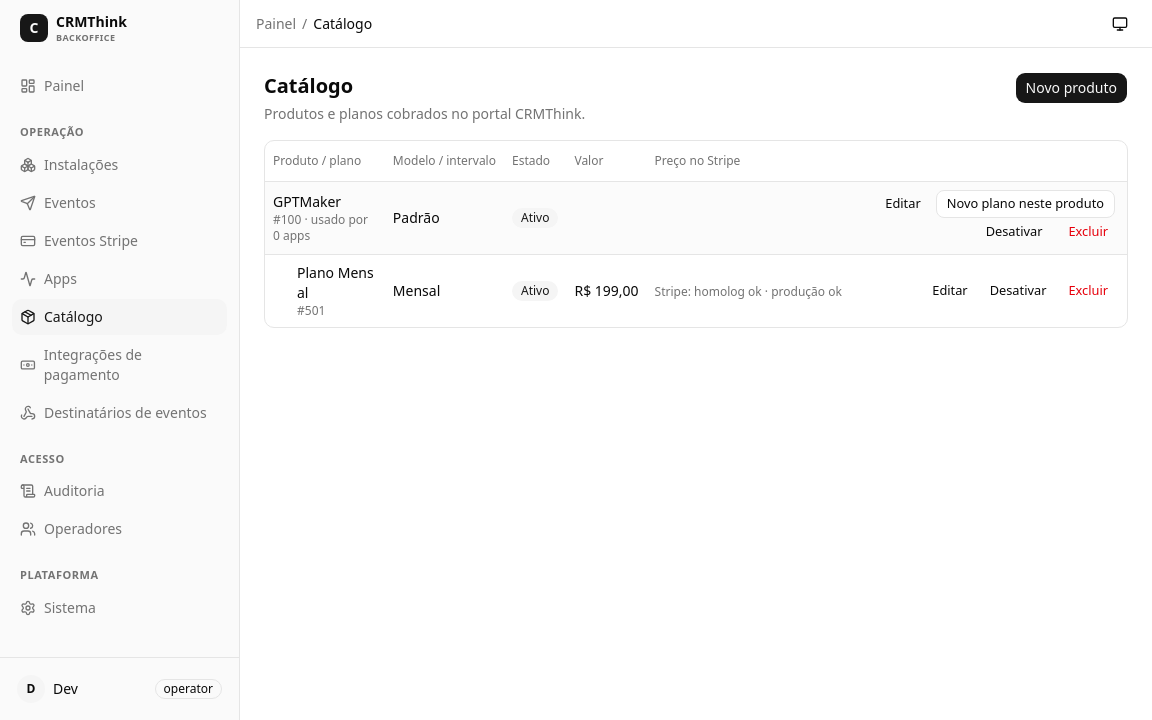
Scenario: excluir e desativar › sem uso exige o nome e o motivo e envia DELETE com o cabeçalho
Click the button with aria-label "Excluir plano Plano Mensal".
click(1088, 290)  # box [1057,276,1119,304]
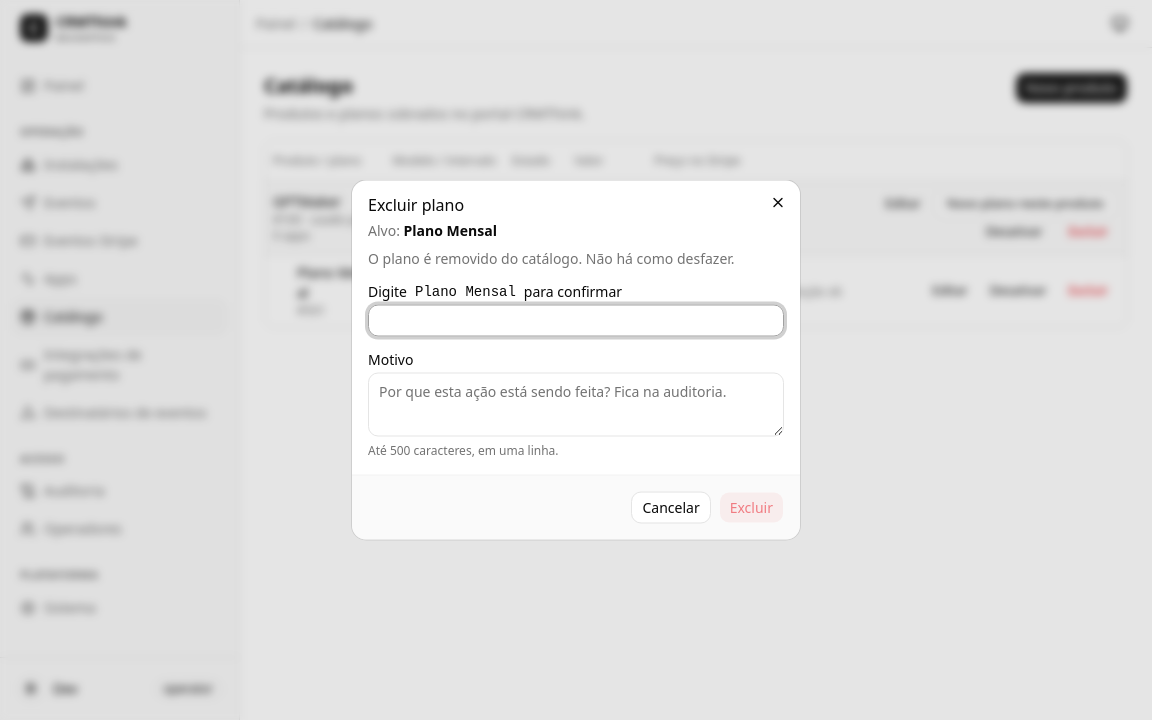
expect the button "Excluir" is disabled: met, box [719,492,784,524]
Type "Plano Mensal" into the field labelled "Digite Plano Mensal para confirmar".
click(576, 320); type("Plano Mensal")  # box [368,304,784,336]
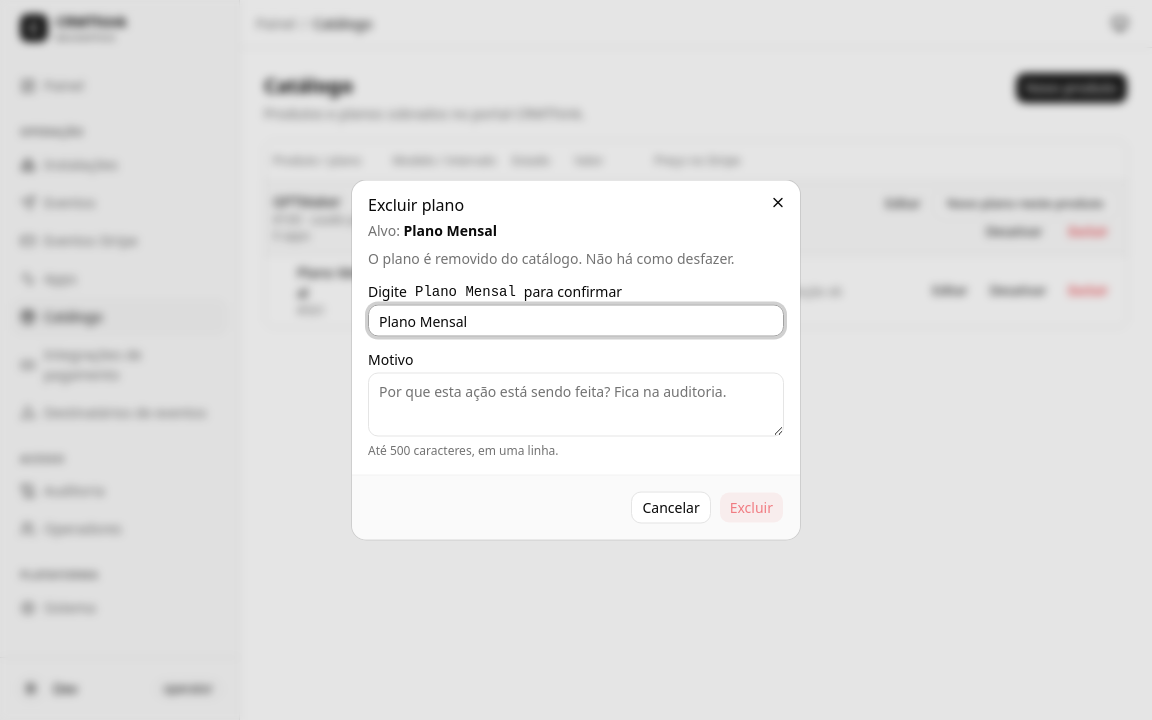
expect the button "Excluir" is disabled: met, box [719,492,784,524]
Type "Duplicado" into the text box labelled "Motivo".
click(576, 404); type("Duplicado")  # box [368,372,784,436]
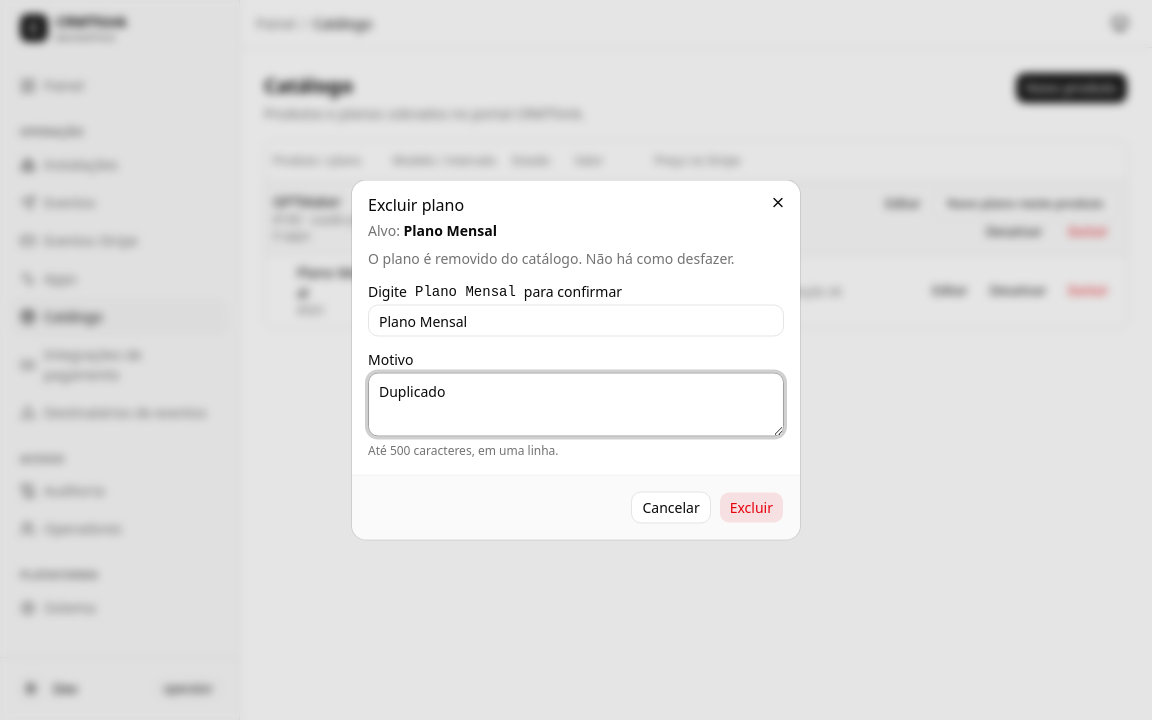
expect the button "Excluir" is enabled: met
Click the button "Excluir".
click(751, 508)  # box [719,492,784,524]
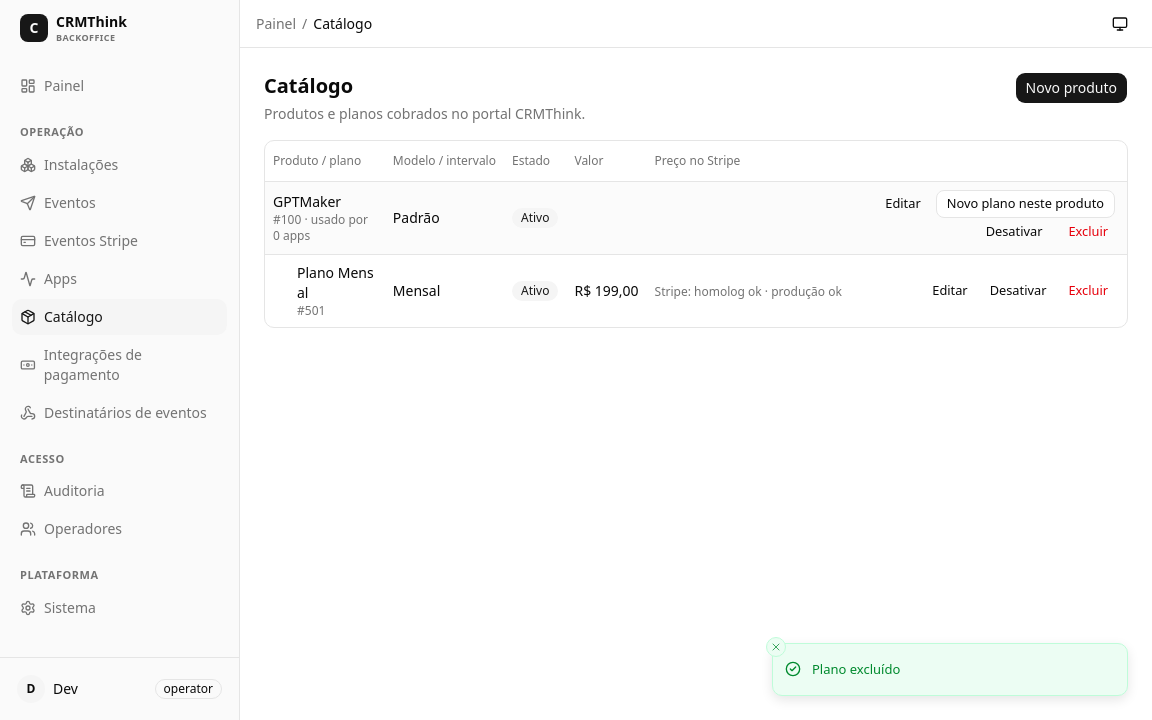
expect the dialog is gone: met
